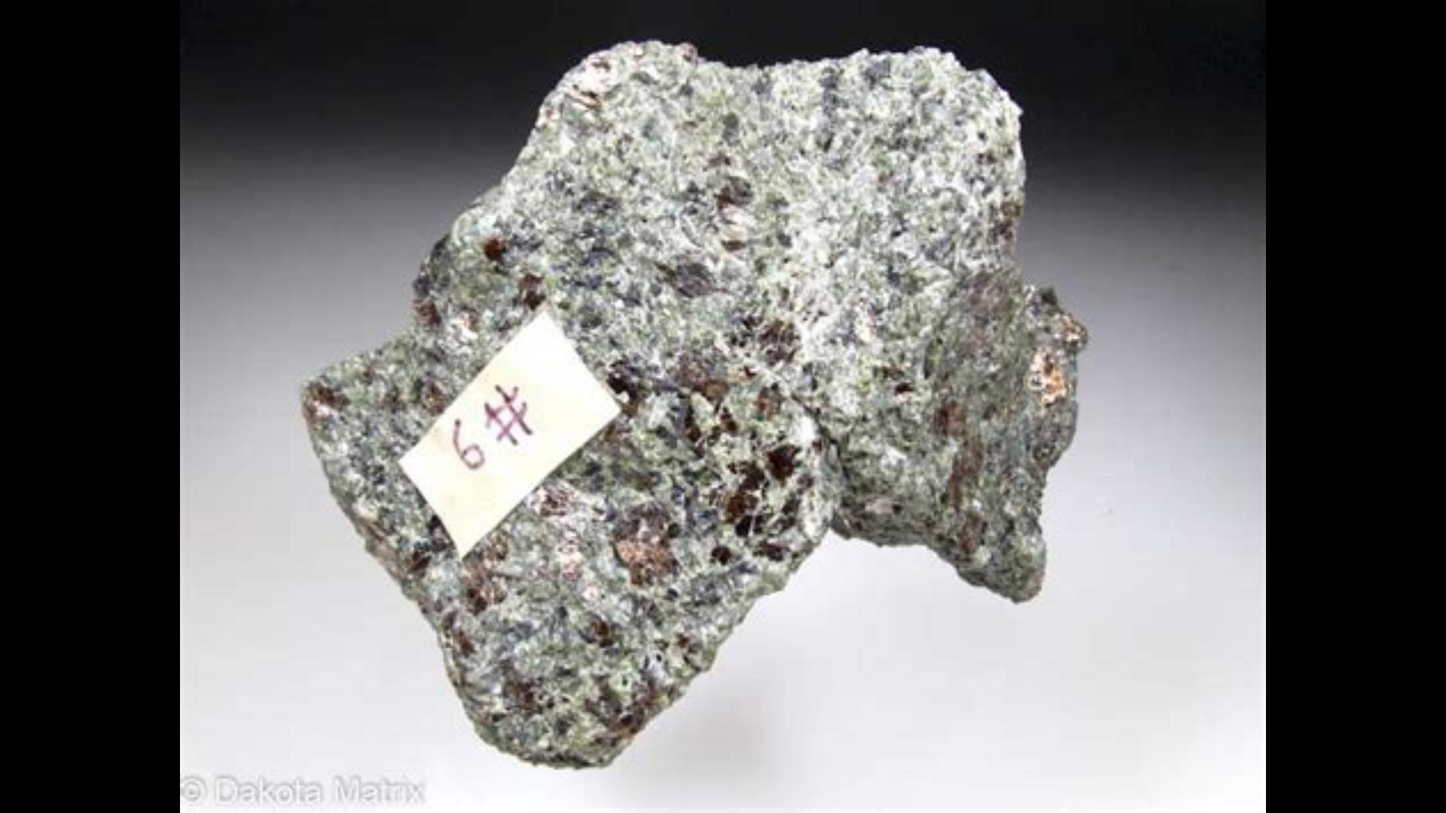rock: (308, 50, 1085, 763)
